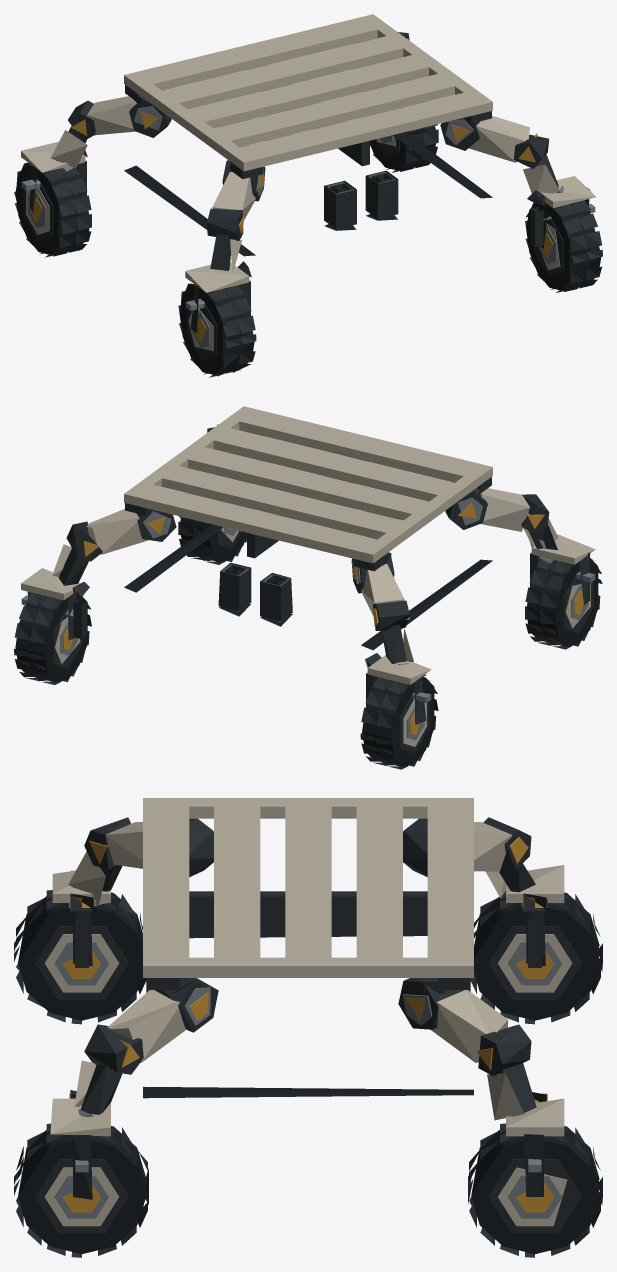
The model's file is stride02_deployed_d0_lod2.glb.
3 renders of one model, top to bottom at view 1: azimuth 30°, elevation 25°; view 2: azimuth 150°, elevation 25°; view 3: azimuth 270°, elevation 25°, orthographic. The views are drawn at different scales.
Visible parts, largest first — view 1: STRIDE02_STATIC_SURFACE; view 2: STRIDE02_STATIC_SURFACE; view 3: STRIDE02_STATIC_SURFACE.
Part boxes in pixels (x1,y1,x2,y2): STRIDE02_STATIC_SURFACE: (14, 14, 602, 377); STRIDE02_STATIC_SURFACE: (14, 406, 602, 769); STRIDE02_STATIC_SURFACE: (14, 798, 602, 1257).
Size of the model in its own units: 1.95 by 0.83 by 1.78.
